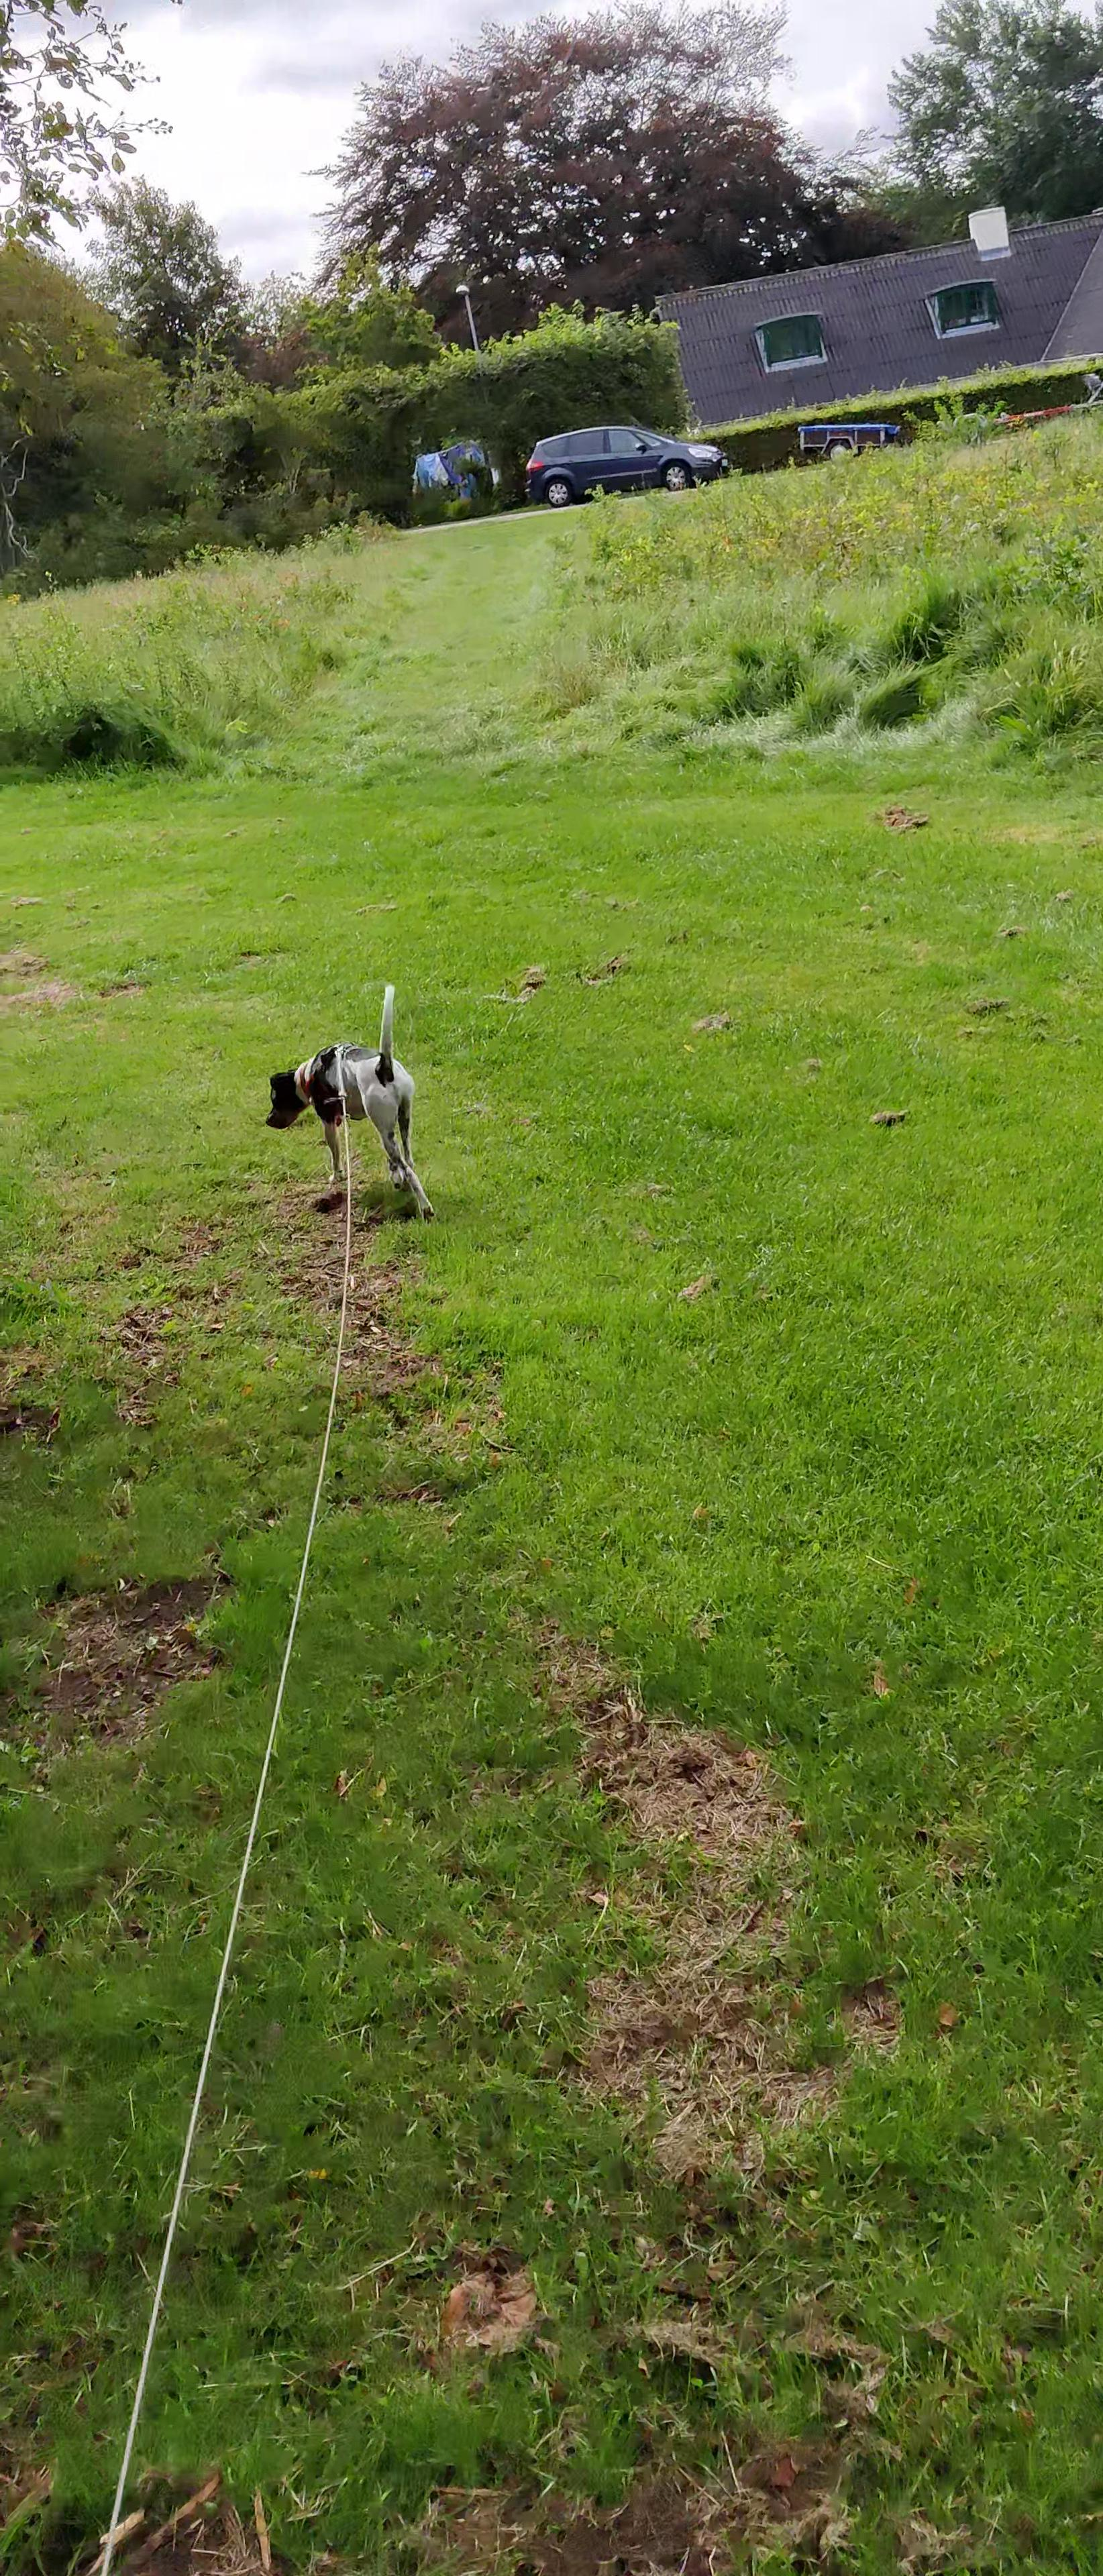Dog: (260, 982, 439, 1222)
